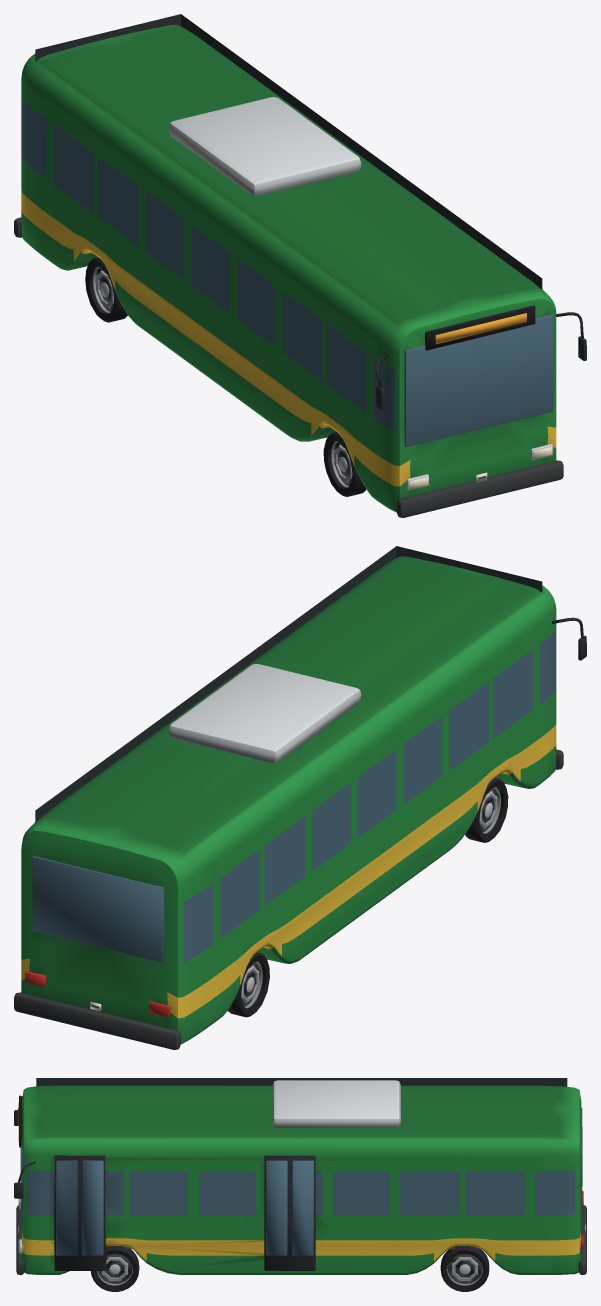
The model's file is veh-bus.glb.
3 views of the same model, one above another, from view 1: azimuth 30°, elevation 25°; view 2: azimuth 150°, elevation 25°; view 3: azimuth 270°, elevation 25° (orthographic). The views are drawn at different scales.
Parts seen in each view (by area): view 1: body, wheel1, wheel3; view 2: body, wheel1, wheel3; view 3: body, wheel2, wheel0.
Part boxes in pixels (bbox=[...]): body: bbox=[14, 14, 586, 517]; wheel1: bbox=[323, 432, 366, 496]; wheel3: bbox=[85, 257, 127, 322]; body: bbox=[14, 546, 586, 1049]; wheel1: bbox=[465, 778, 508, 842]; wheel3: bbox=[228, 952, 269, 1017]; body: bbox=[14, 1078, 586, 1274]; wheel2: bbox=[440, 1246, 489, 1291]; wheel0: bbox=[91, 1246, 139, 1291].
Bounding box in the file's own units: 3.01 × 3.15 × 9.82.
